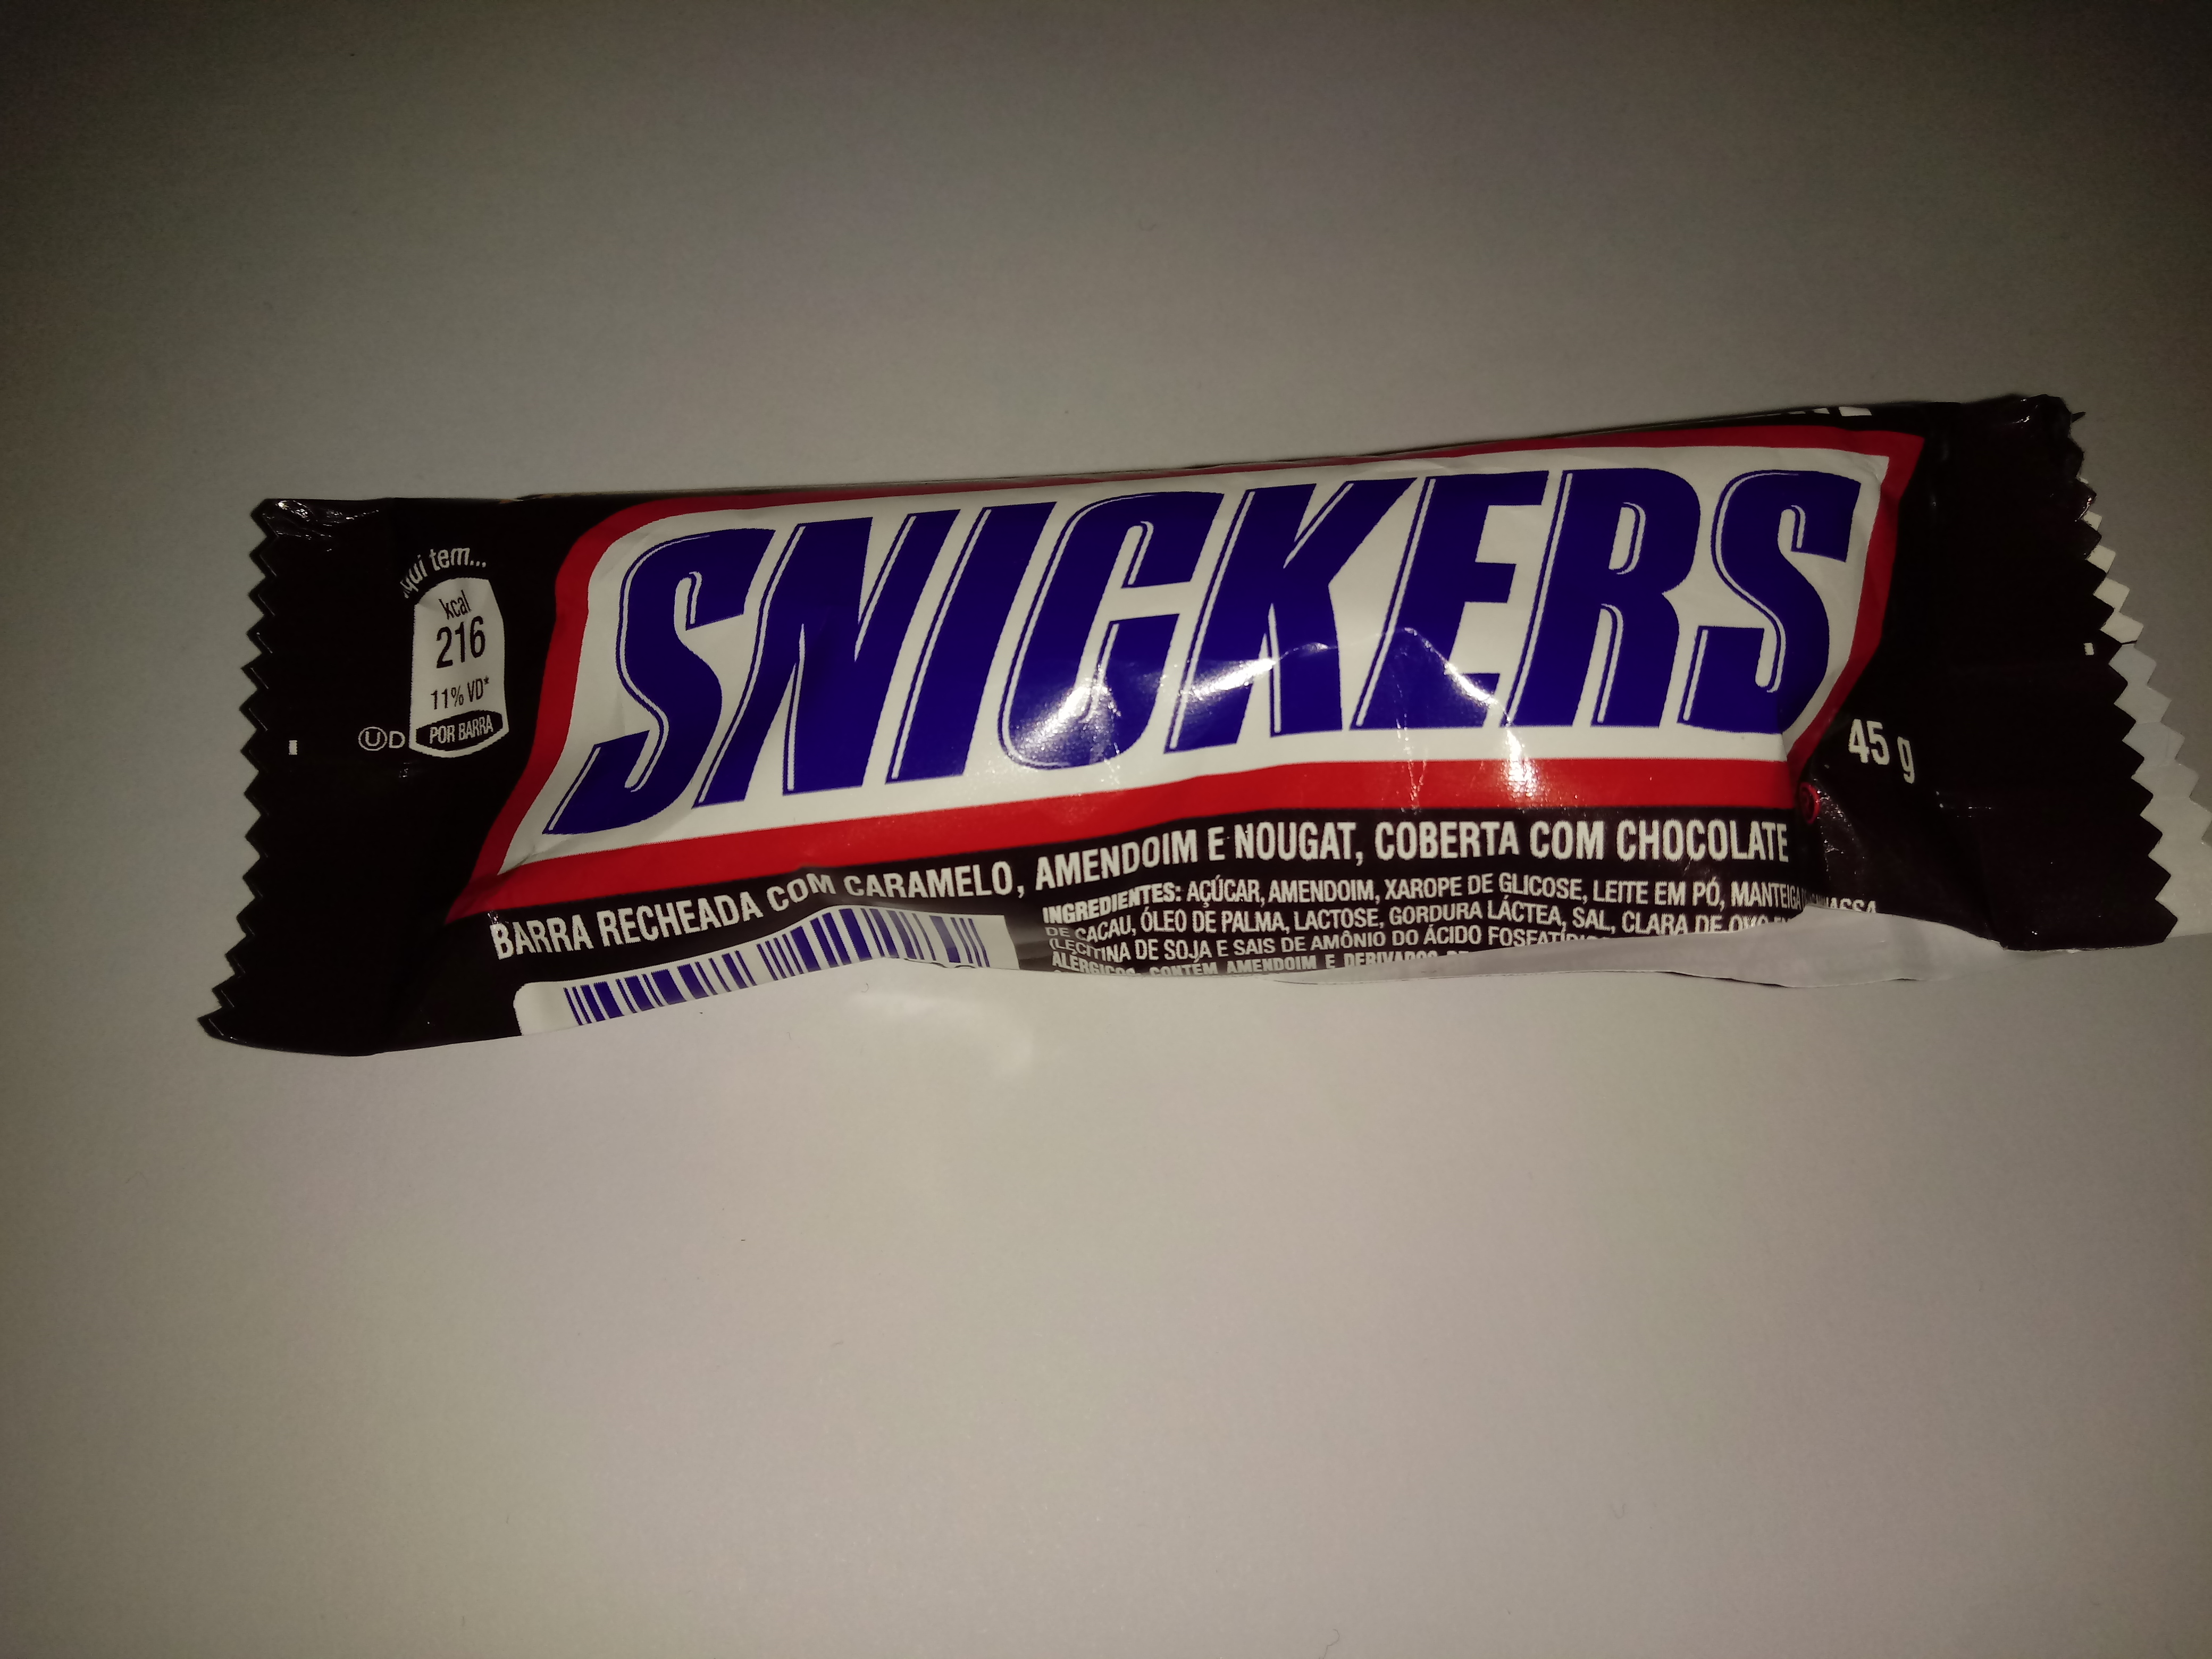snickers: (209, 382, 2212, 1075)
